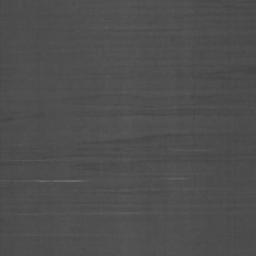Waist folding: (72, 108, 215, 158), (94, 176, 189, 216), (0, 158, 86, 184), (19, 212, 78, 238), (104, 28, 147, 30), (0, 117, 14, 122)
